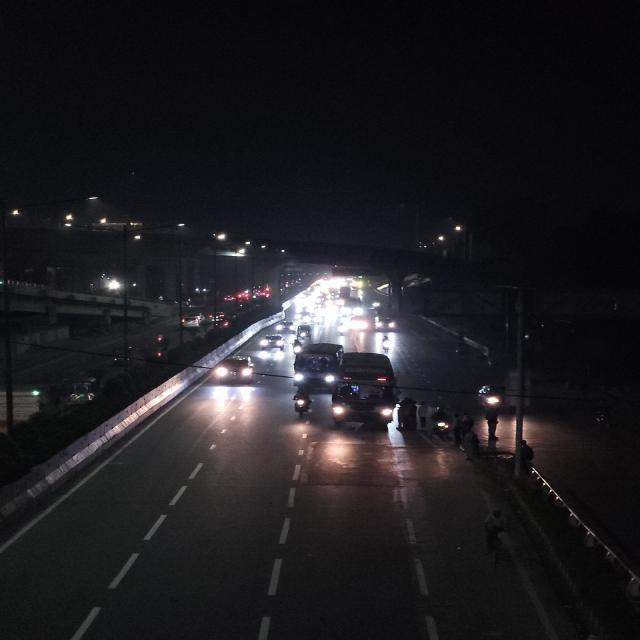bicycle: (482, 508, 509, 570)
bus: (329, 348, 401, 428), (292, 350, 336, 390)
car: (215, 353, 256, 388), (260, 332, 288, 354), (181, 314, 202, 331)
cng: (68, 377, 100, 404), (111, 346, 134, 367), (295, 324, 313, 340)
motorcycle: (428, 403, 455, 443), (291, 386, 312, 417), (380, 333, 397, 354), (292, 336, 302, 355)
pedestrian: (480, 404, 503, 440), (415, 399, 431, 436)
